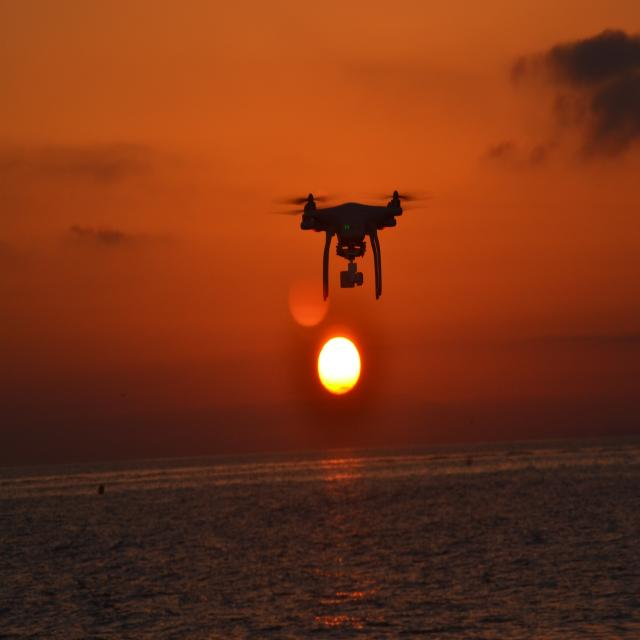drone: (269, 185, 434, 304)
